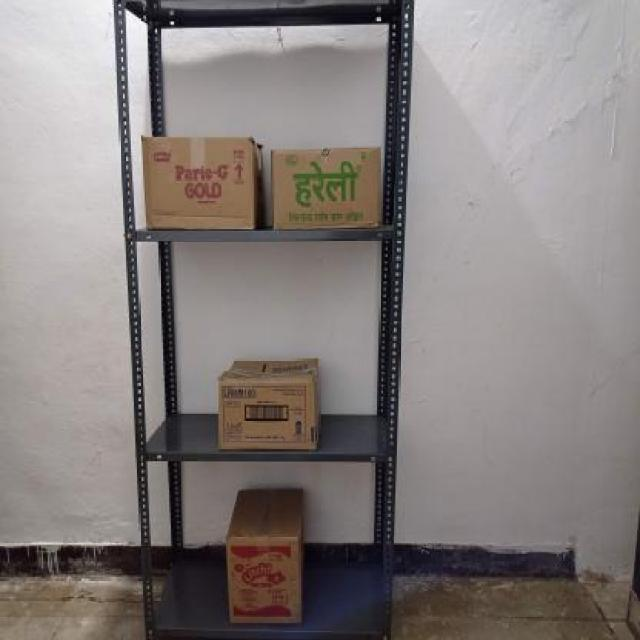box: (138, 133, 254, 230), (269, 146, 380, 228), (217, 377, 317, 448), (226, 536, 300, 624)
